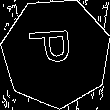P_E: (29, 33, 82, 73)
